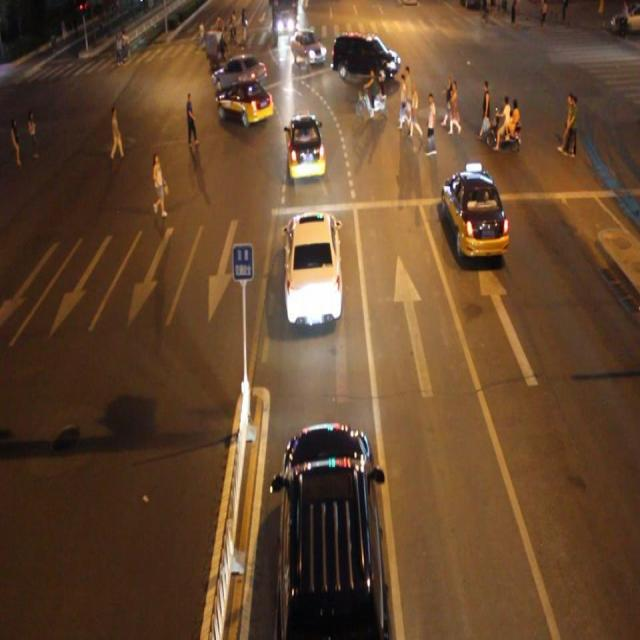car: (272, 409, 394, 640), (436, 153, 514, 286), (278, 199, 355, 333), (335, 16, 417, 100), (208, 74, 269, 146), (287, 106, 329, 174), (218, 54, 270, 92), (288, 29, 332, 71)
